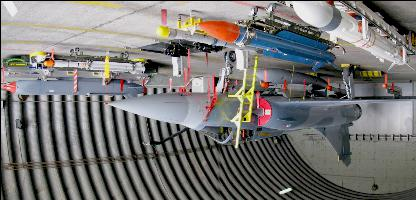Mirage2000: (102, 51, 416, 168)
